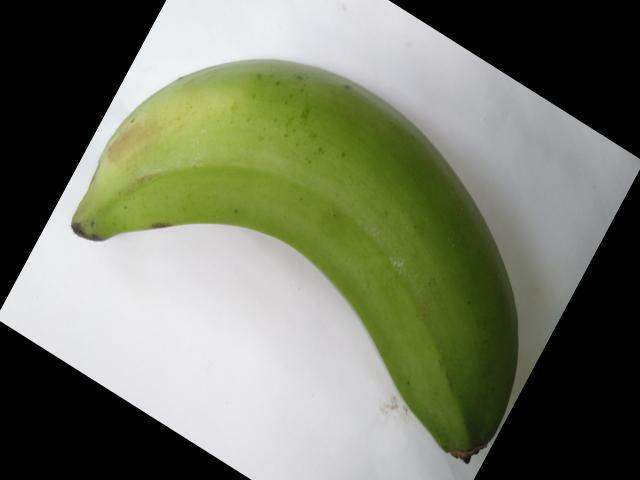freshunripe: (72, 36, 530, 479)
